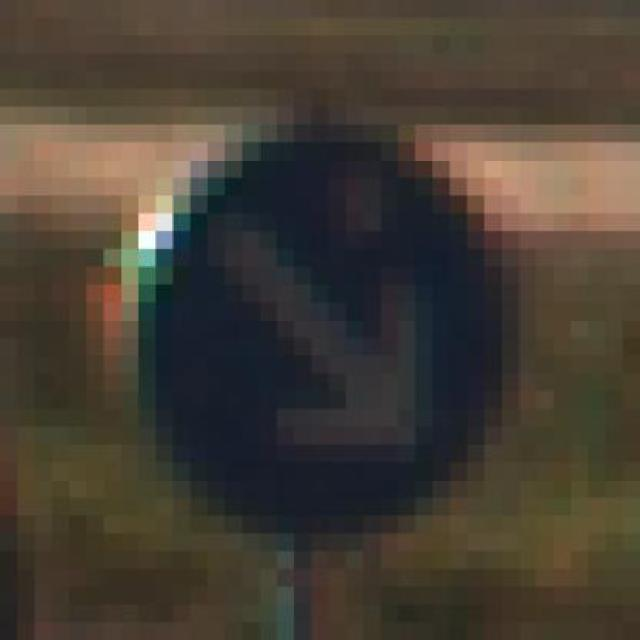Keep-Right: (86, 89, 537, 569)
